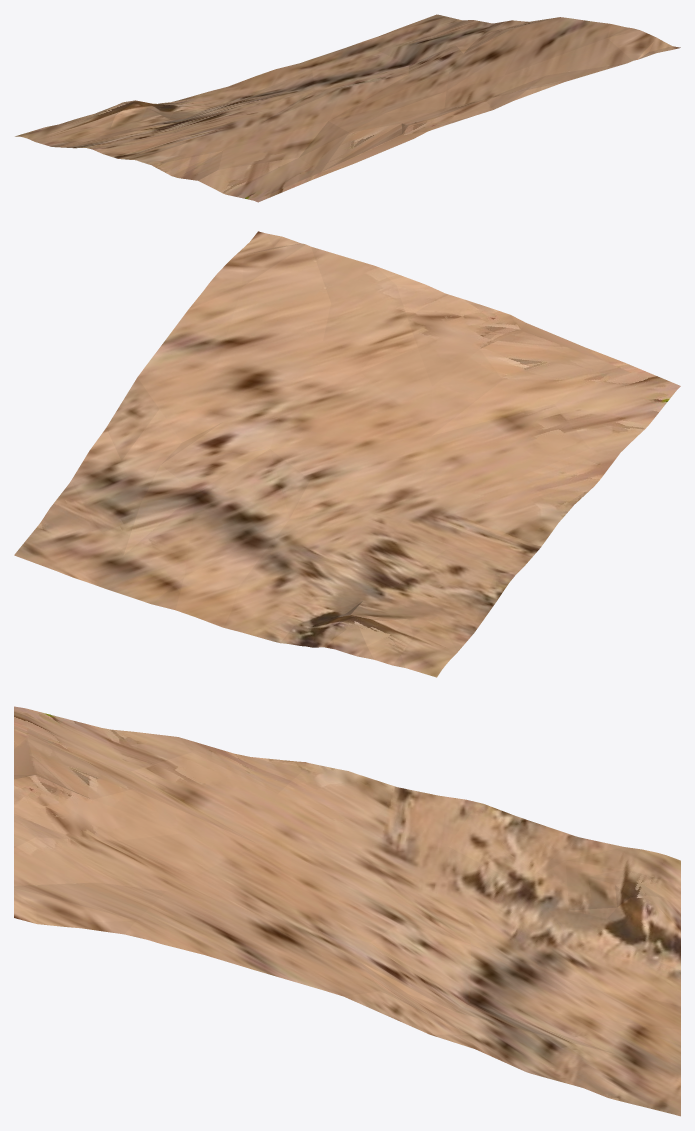
3 views of the same model, one above another, from view 1: azimuth 30°, elevation 25°; view 2: azimuth 150°, elevation 25°; view 3: azimuth 270°, elevation 25° (orthographic). The views are drawn at different scales.
Size of the model in its own units: 1.04 by 0.3985 by 1.04.
Materials: 2 (2 with a texture image).
